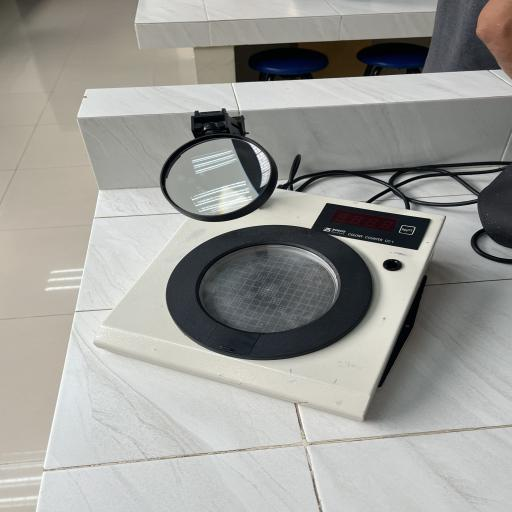Contador_Colonias_CC1: (74, 105, 462, 430)
